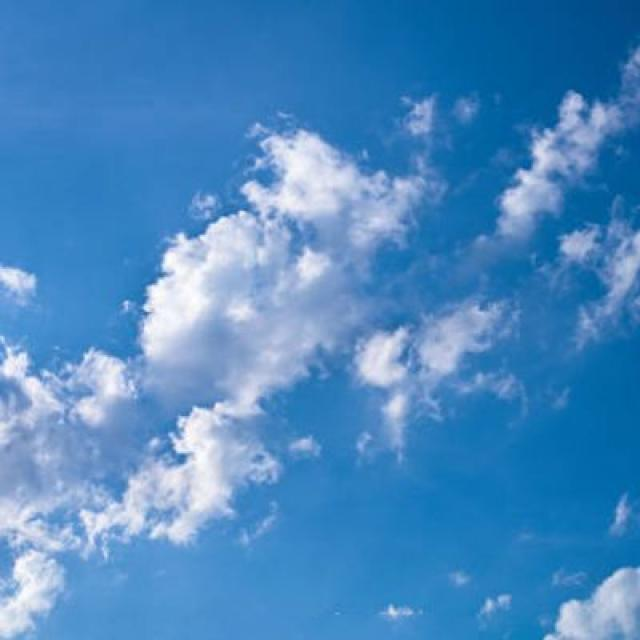Cc: (49, 117, 488, 517)
